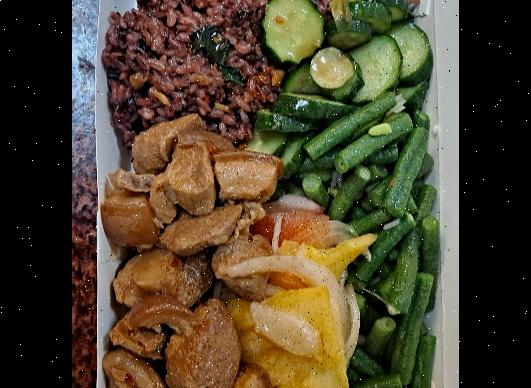box: (85, 0, 439, 388)
braised pork: (98, 116, 276, 388)
purple rice: (109, 0, 411, 166)
side dish: (257, 0, 434, 196), (244, 199, 351, 388), (337, 189, 437, 388)
